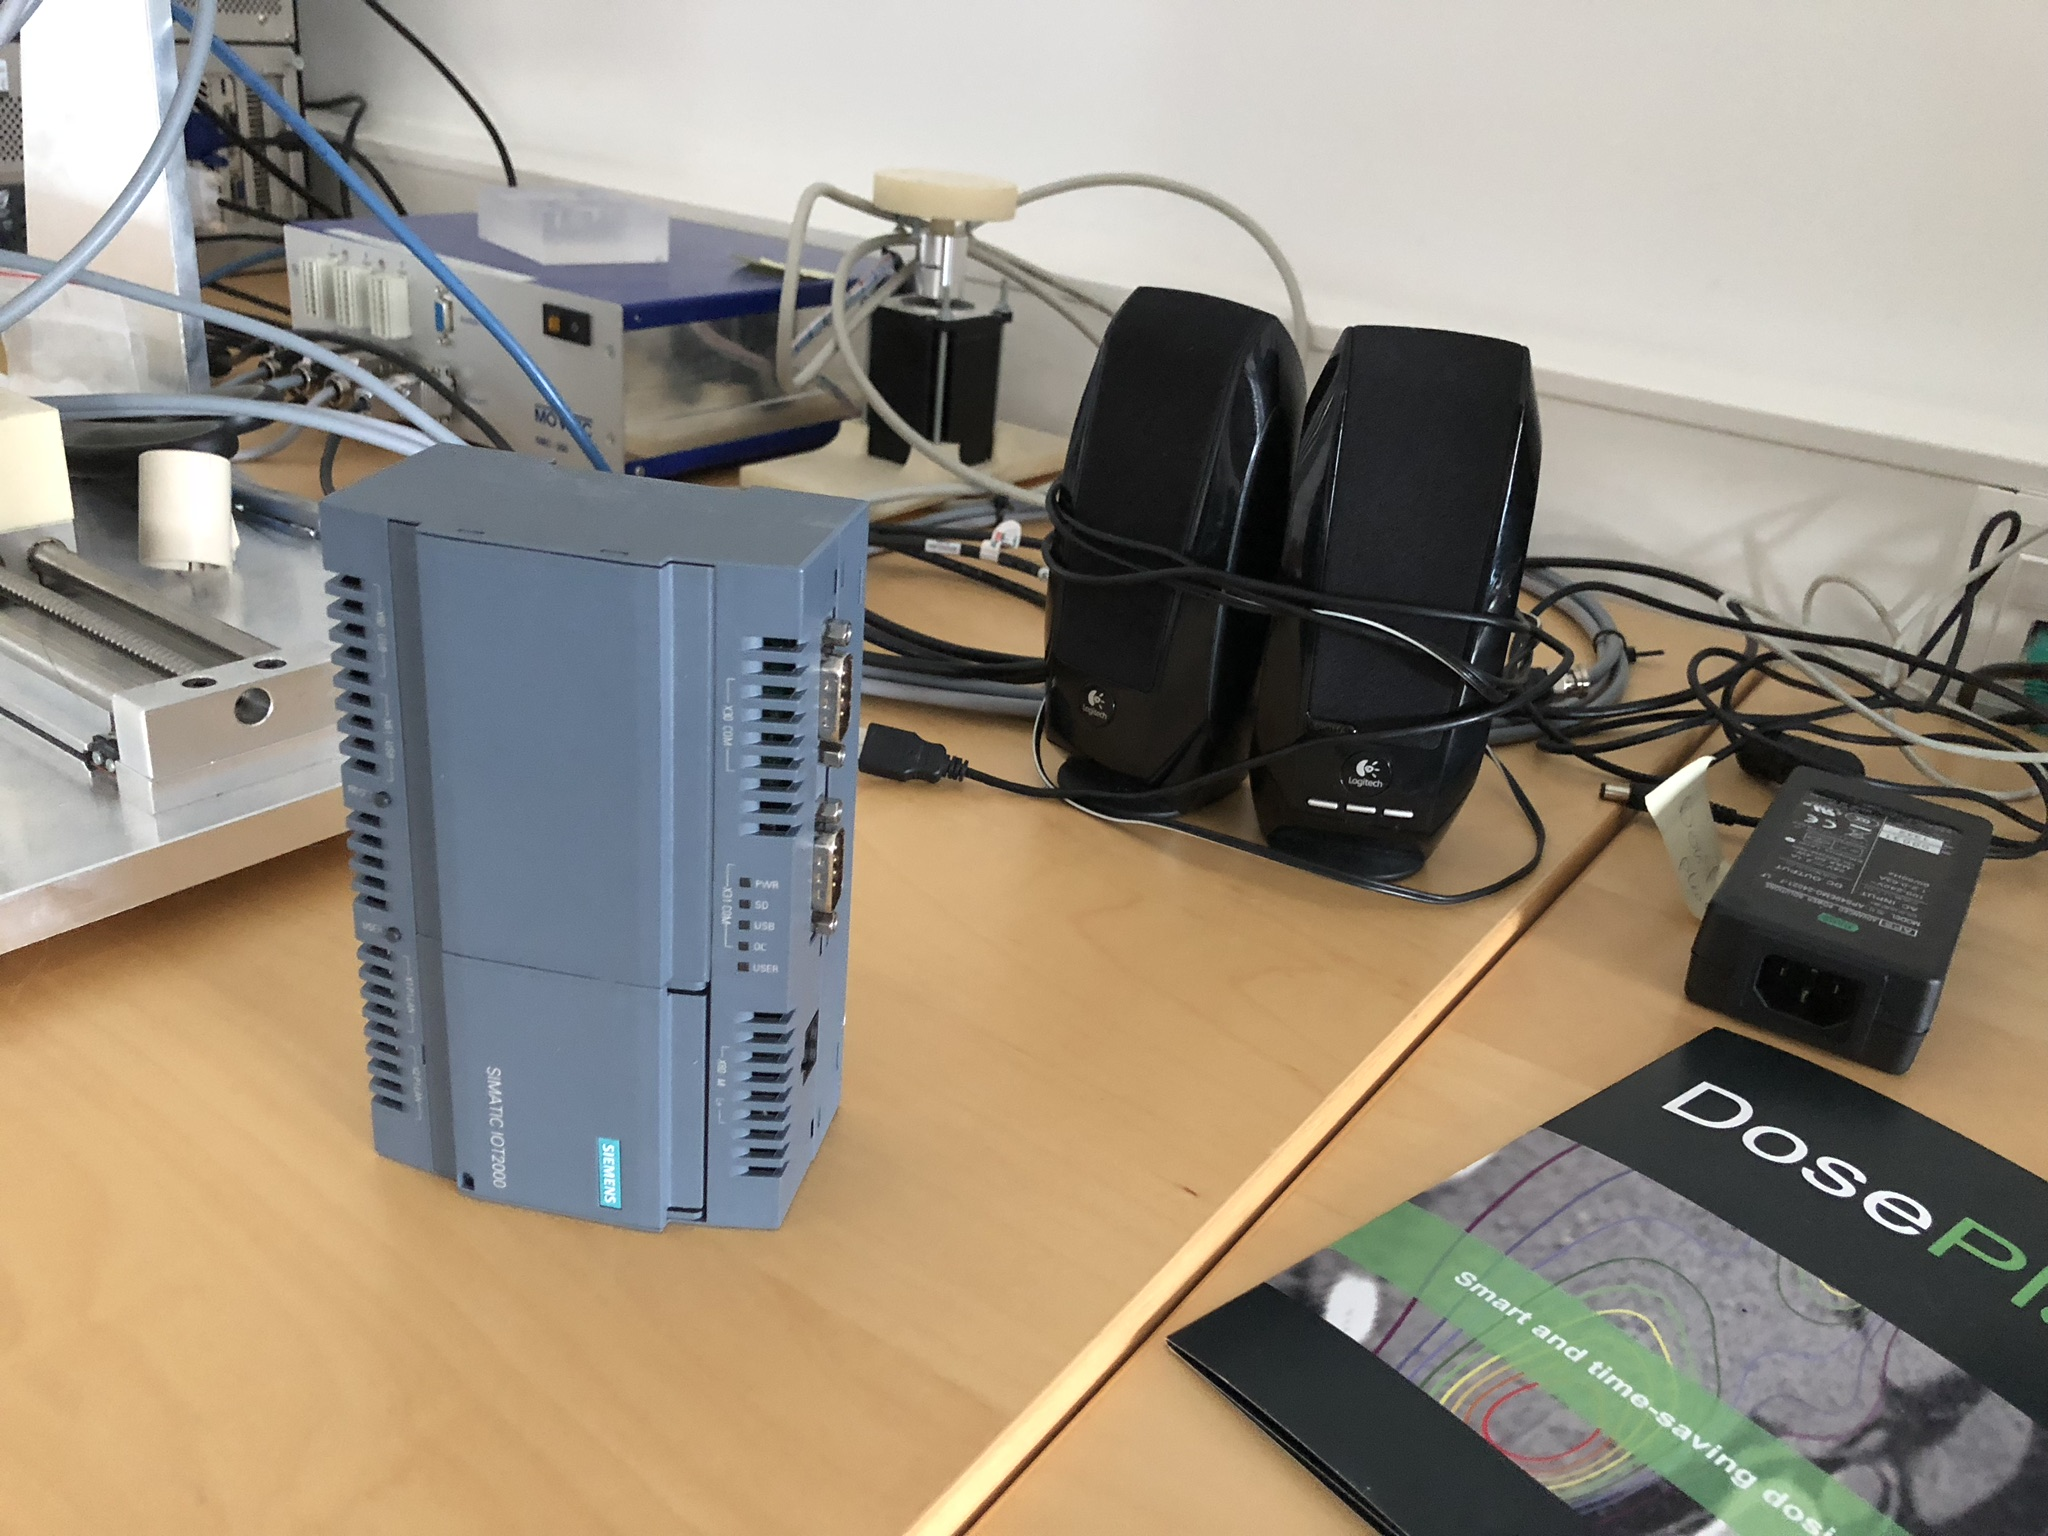device: (319, 442, 871, 1234)
